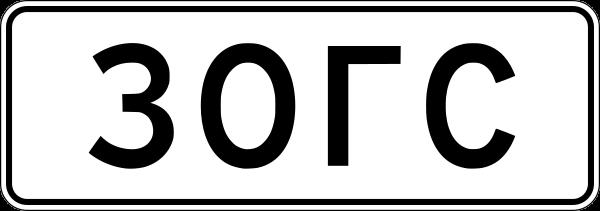Stop: (75, 45, 523, 175)
